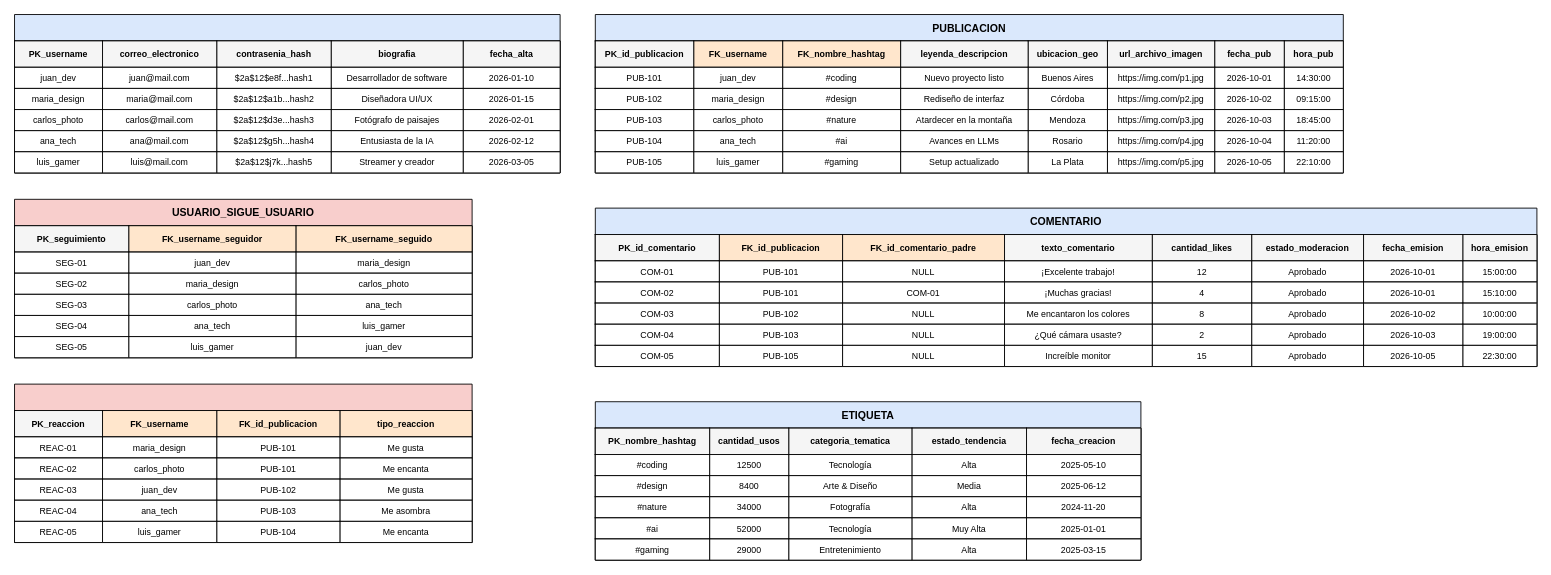
Some shapes in this 1551 by 575 pixel diagram are drawn without their labels. The shapes that lost their labels are listed below. From the top down, each one's box as (x1, y1, x2, y2) in pixels, then its label:
(14, 14, 560, 173): USUARIO
(14, 383, 472, 543): REACCION_USUARIO_PUBLICACION
